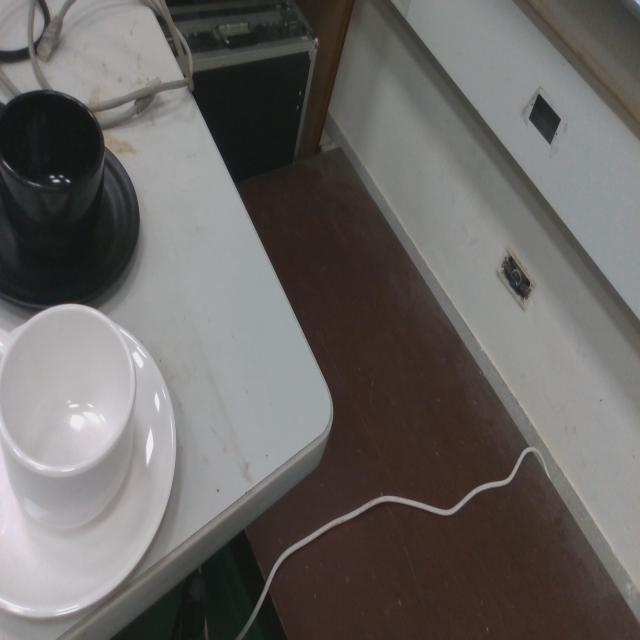black: (0, 85, 143, 313)
white: (0, 299, 179, 625)
